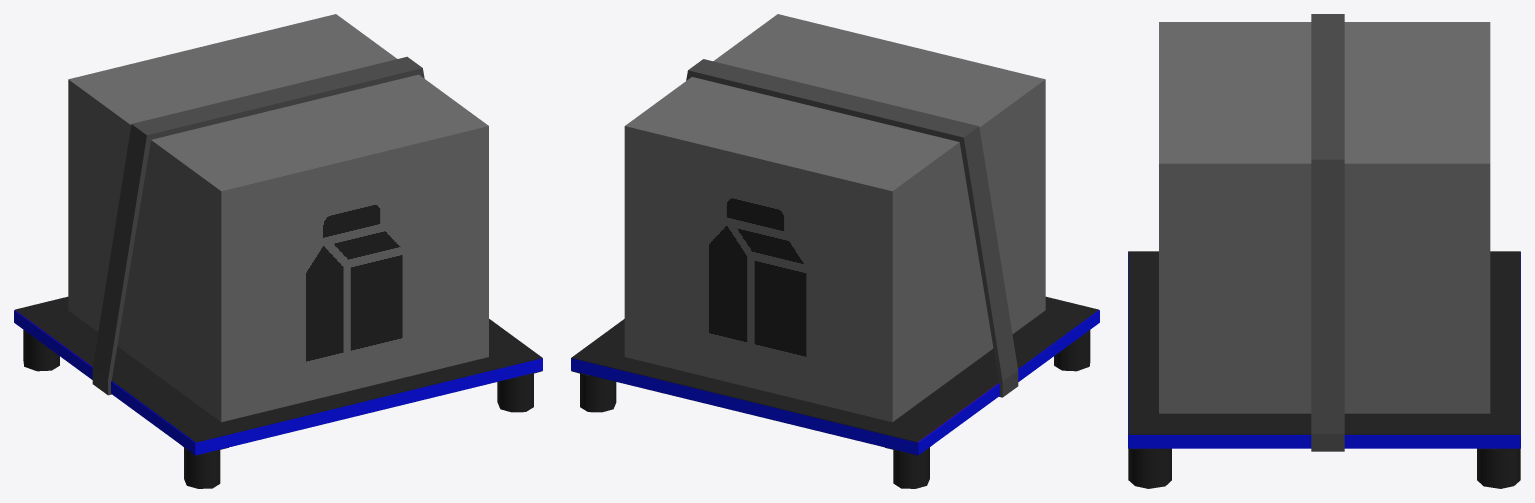
The model's file is StoreRoomBox.fbx.
The picture shows the model from 3 angles, left to right: view 1: azimuth 30°, elevation 25°; view 2: azimuth 150°, elevation 25°; view 3: azimuth 270°, elevation 25°; orthographic projection. The views are drawn at different scales.
Visible parts, largest first — view 1: Box+Tray, Brace, LED; view 2: Box+Tray, Brace, LED; view 3: Box+Tray, Brace, LED.
Boxes of the visible parts, x1=… form: Box+Tray: x1=15, y1=14, x2=542, y2=488; Brace: x1=92, y1=56, x2=424, y2=395; LED: x1=14, y1=310, x2=542, y2=455; Box+Tray: x1=571, y1=14, x2=1098, y2=488; Brace: x1=686, y1=59, x2=1018, y2=397; LED: x1=571, y1=310, x2=1099, y2=455; Box+Tray: x1=1128, y1=22, x2=1520, y2=488; Brace: x1=1311, y1=14, x2=1344, y2=451; LED: x1=1128, y1=252, x2=1520, y2=448.
Bounding box in the file's own units: 0.5659 × 0.4387 × 0.503.
Materials: 1 (1 with a texture image).
